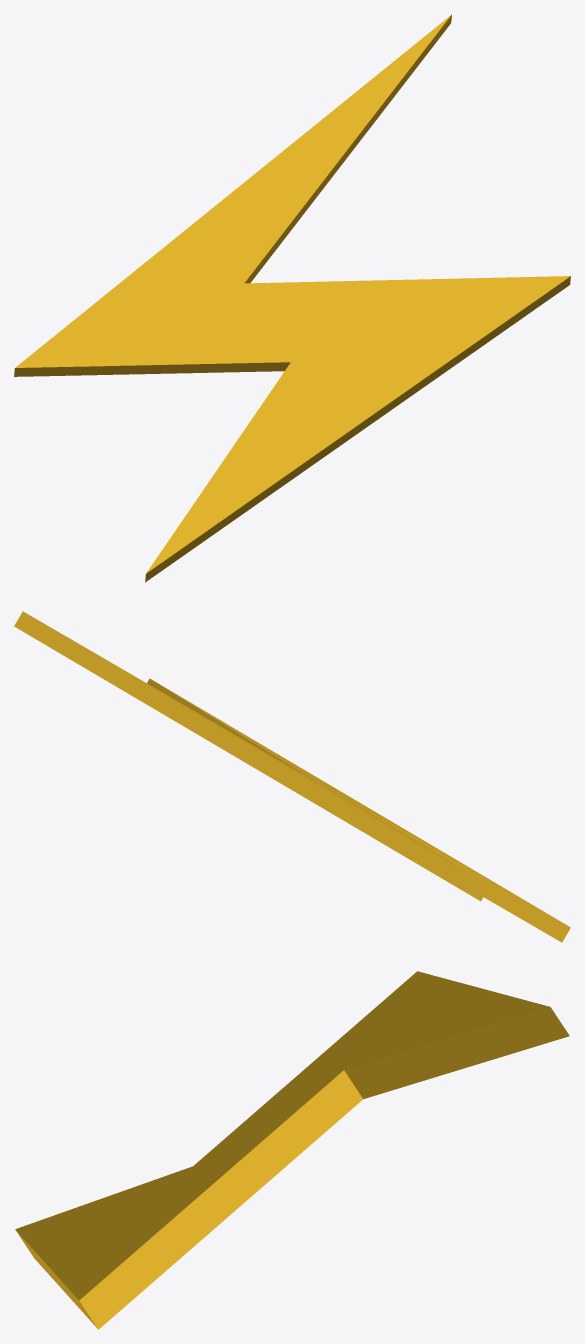
Rendered from SpeedMaskOrb.fbx.
The picture shows the model from 3 angles, top to bottom: view 1: azimuth 30°, elevation 25°; view 2: azimuth 150°, elevation 25°; view 3: azimuth 270°, elevation 25°; orthographic projection. The views are drawn at different scales.
Parts seen in each view (by area): view 1: SpeedOrb; view 2: SpeedOrb; view 3: SpeedOrb.
Boxes of the visible parts, x1,y1,x2,y2 form: SpeedOrb: (14, 14, 570, 582); SpeedOrb: (14, 611, 570, 942); SpeedOrb: (15, 971, 569, 1329).
Bounding box in the file's own units: 138 × 98.29 × 75.82.
